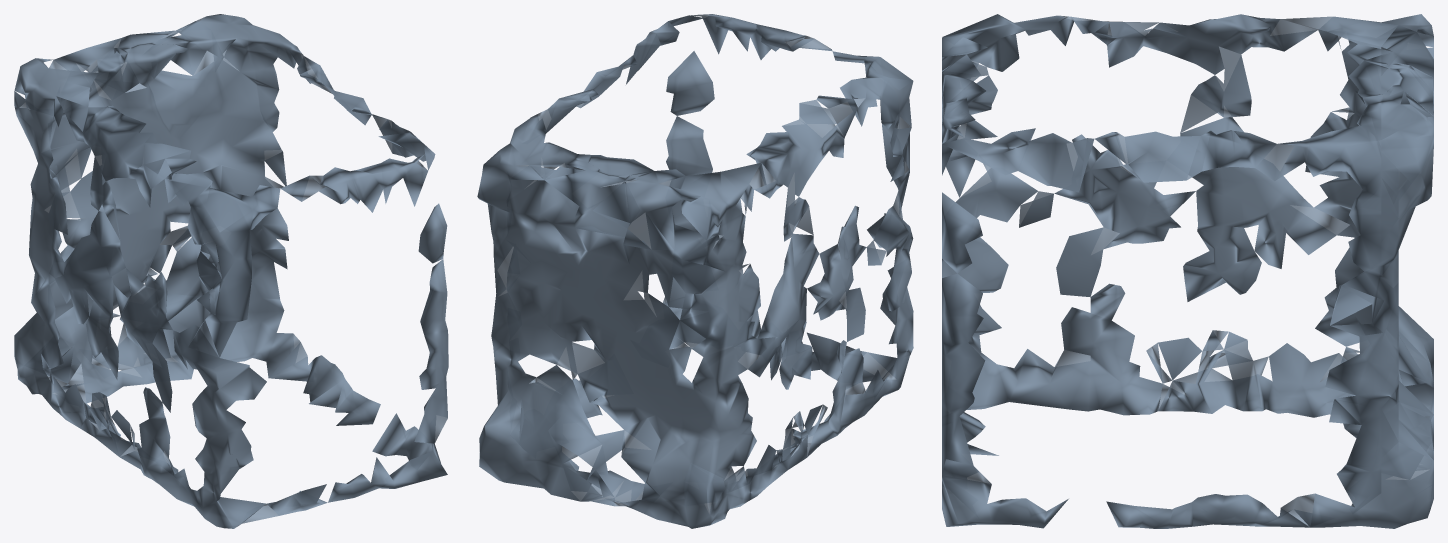
Rendered from sample_601_orig.obj.
3 views of the same model, side by side, from view 1: azimuth 30°, elevation 25°; view 2: azimuth 150°, elevation 25°; view 3: azimuth 270°, elevation 25° (orthographic). The views are drawn at different scales.
Size of the model in its own units: 0.9135 by 1.16 by 1.35.
